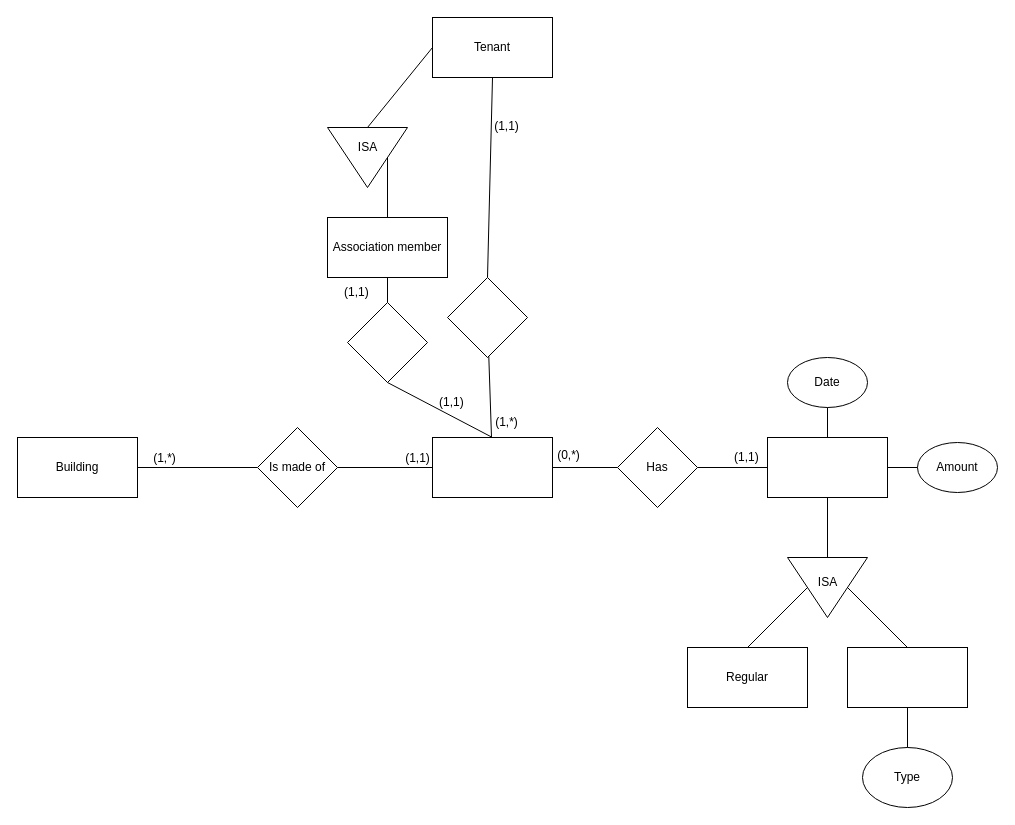
This 1015x825 diagram has some shape labels left out. Each missing label, with the centre of its shape:
"Additional" goes at (907,677).
"Apartment" goes at (492,467).
"Charge" goes at (827,467).
"Houses" goes at (487,317).
"Is assigned to" goes at (387,342).
